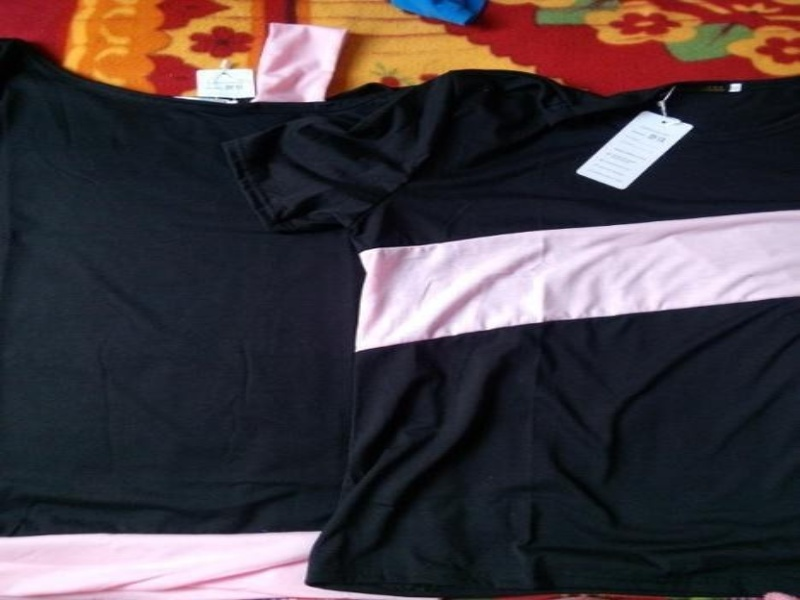short_sleeved_dress: (2, 21, 436, 599)
short_sleeved_shirt: (214, 63, 798, 599)
